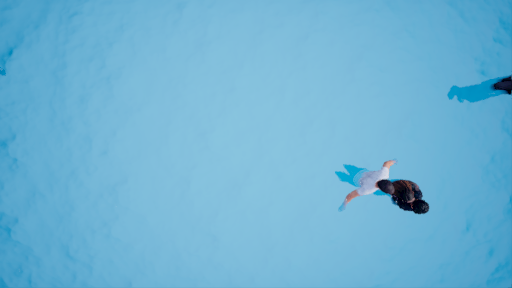person: (328, 149, 400, 199), (381, 167, 442, 224), (445, 56, 512, 103)
